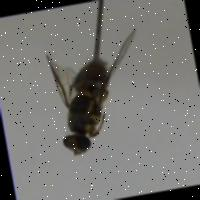Oriental-fruit-fly: (36, 24, 155, 158)
